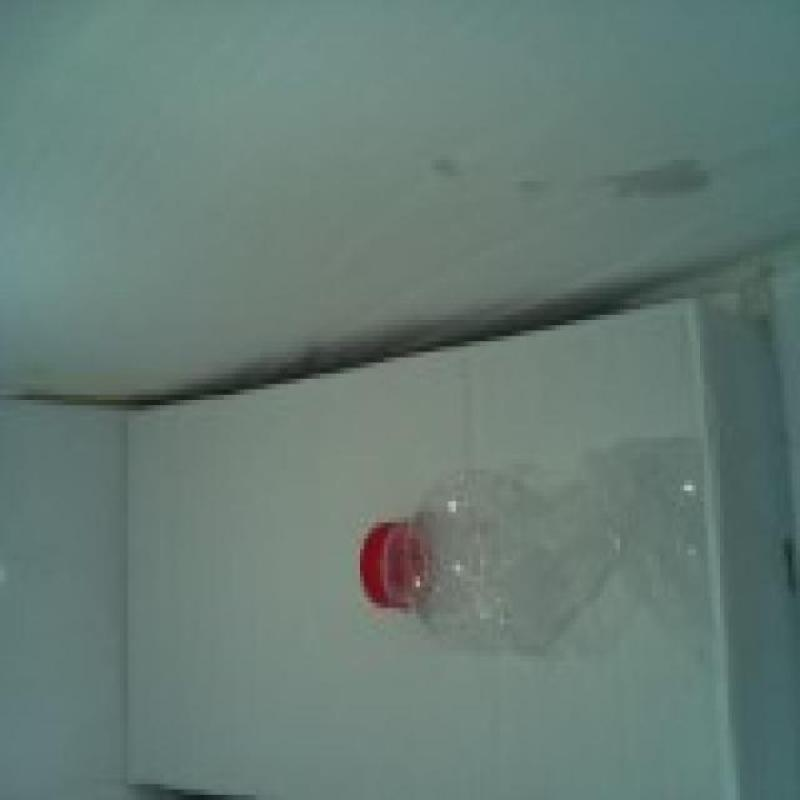botella: (362, 439, 712, 661)
